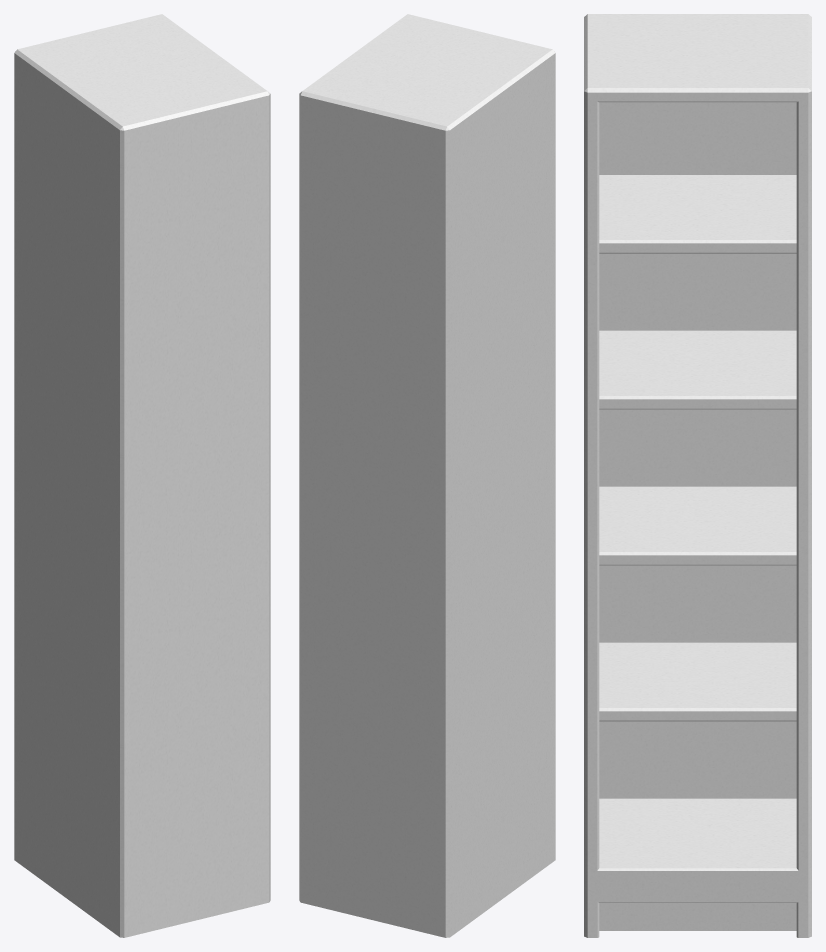
The model's file is bookshelf_1.glb.
The picture shows the model from 3 angles, left to right: view 1: azimuth 30°, elevation 25°; view 2: azimuth 150°, elevation 25°; view 3: azimuth 270°, elevation 25°; orthographic projection. The views are drawn at different scales.
Parts seen in each view (by area): view 1: bookshelf 1; view 2: bookshelf 1; view 3: bookshelf 1.
Part boxes in pixels (bbox=[...]): bookshelf 1: bbox=[14, 14, 270, 937]; bookshelf 1: bbox=[299, 14, 555, 937]; bookshelf 1: bbox=[584, 14, 811, 937].
Bounding box in the file's own units: 0.72 × 3.7 × 0.9002.
1 material, 1 textured.
